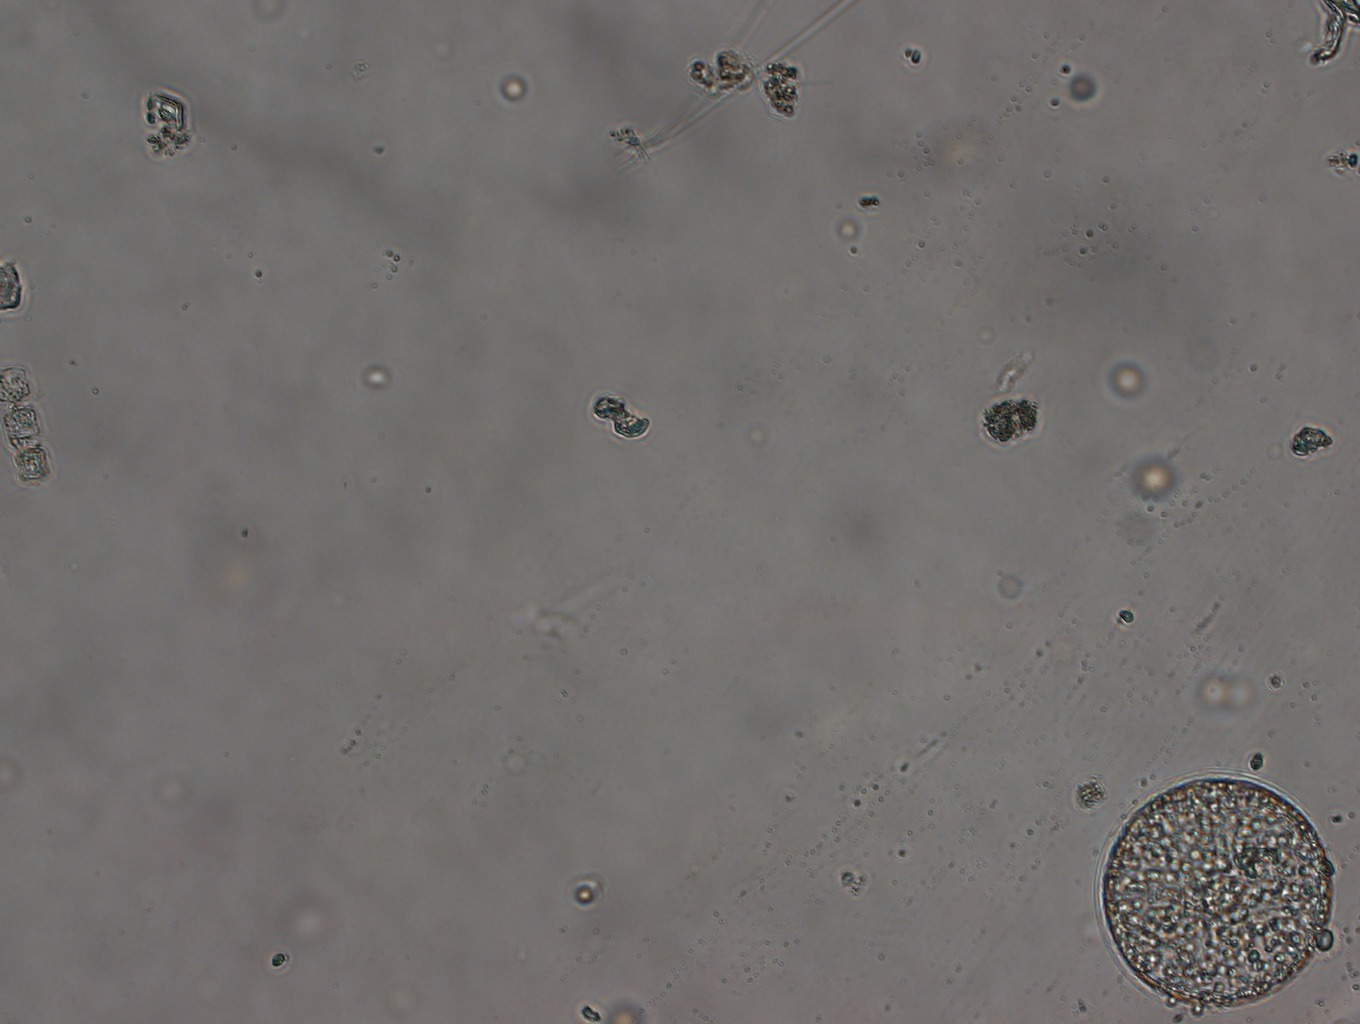coscinodiscus: (1097, 768, 1338, 1011)
